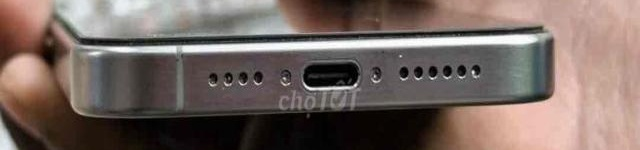scratch: (171, 42, 186, 68), (394, 48, 405, 63)
